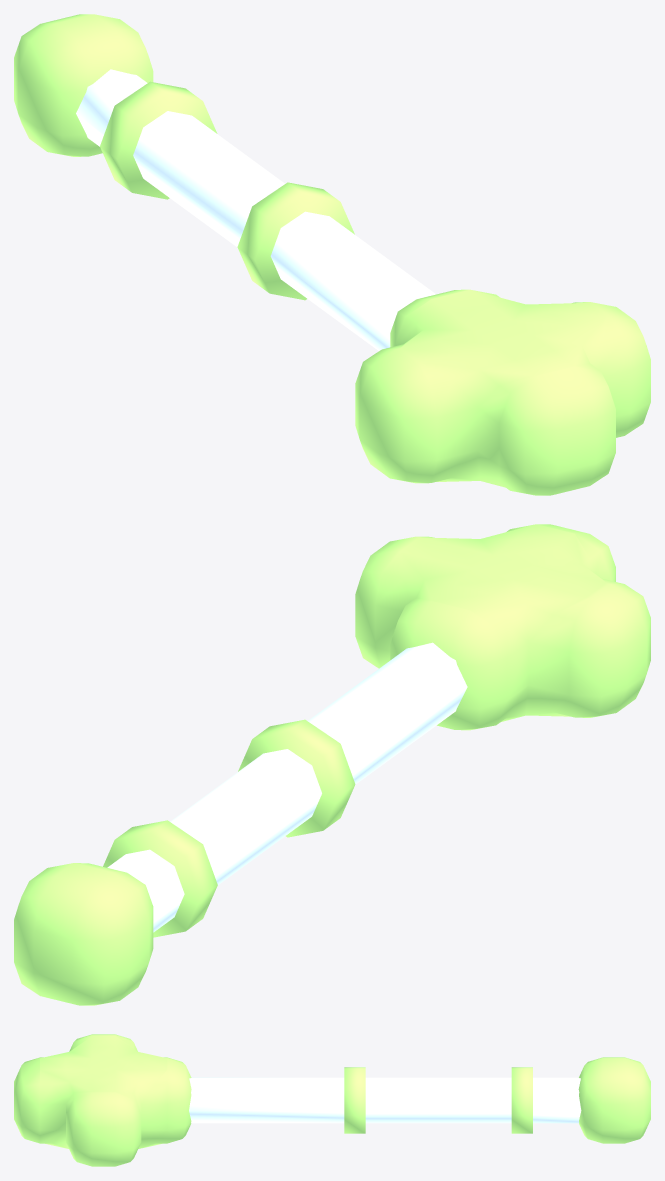
File: Green-Lv2-Healer-WP.fbx
3 views of the same model, one above another, from view 1: azimuth 30°, elevation 25°; view 2: azimuth 150°, elevation 25°; view 3: azimuth 270°, elevation 25° (orthographic). The views are drawn at different scales.
Parts seen in each view (by area): view 1: Green-Lv2-Healer-WP; view 2: Green-Lv2-Healer-WP; view 3: Green-Lv2-Healer-WP.
Part boxes in pixels (x1,y1,x2,y2): Green-Lv2-Healer-WP: [14, 14, 650, 495]; Green-Lv2-Healer-WP: [14, 524, 650, 1005]; Green-Lv2-Healer-WP: [14, 1034, 650, 1166].
Bounding box in the file's own units: 0.2506 × 0.1073 × 0.8489.
